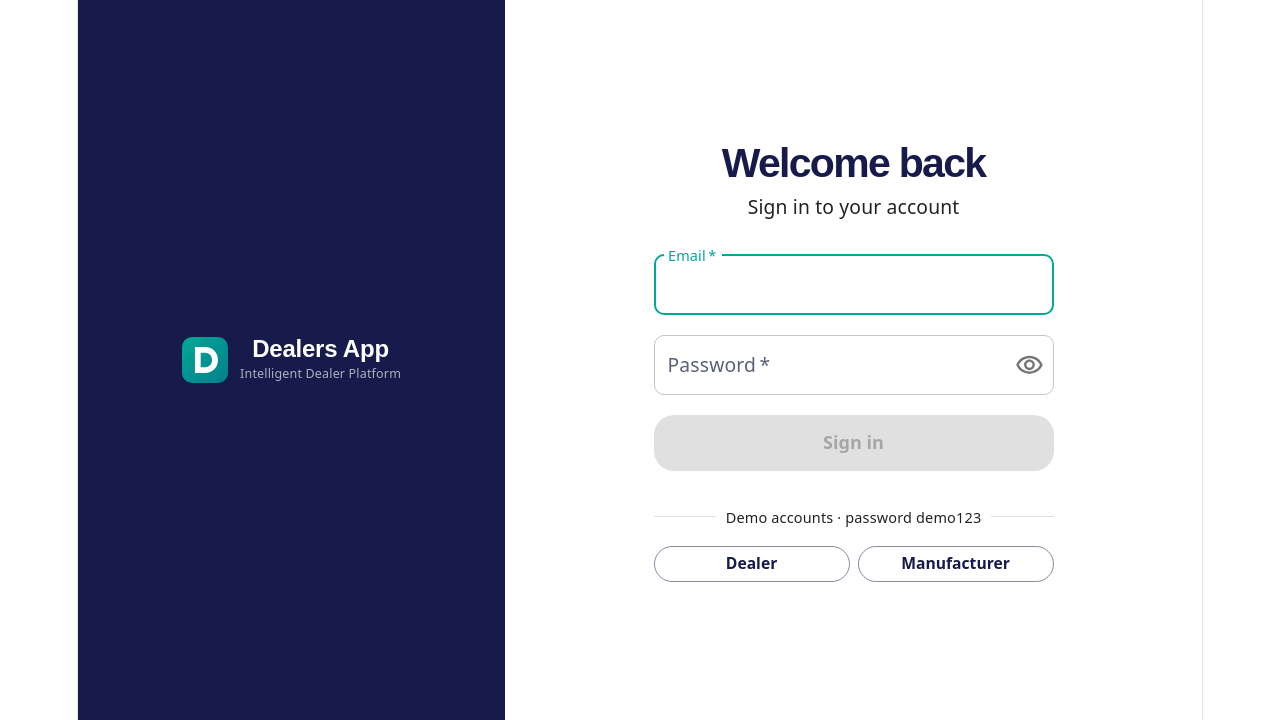
Login › typing again clears the error
The image size is (1280, 720).
Type "dealer@demo.com" into the field labelled "Email *" at [854, 284], box x1=654 y1=254 x2=1054 y2=315
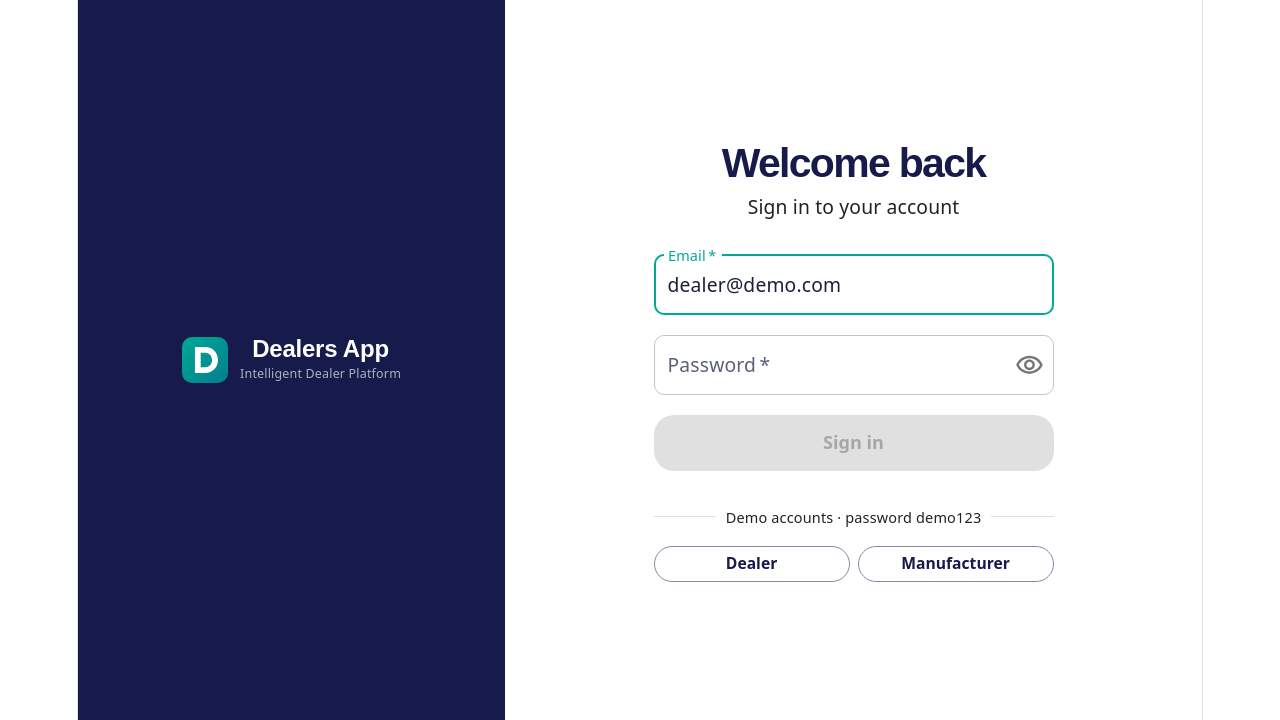
Type "wrong" into the password field labelled "Password *" at [826, 365], box x1=654 y1=335 x2=999 y2=395
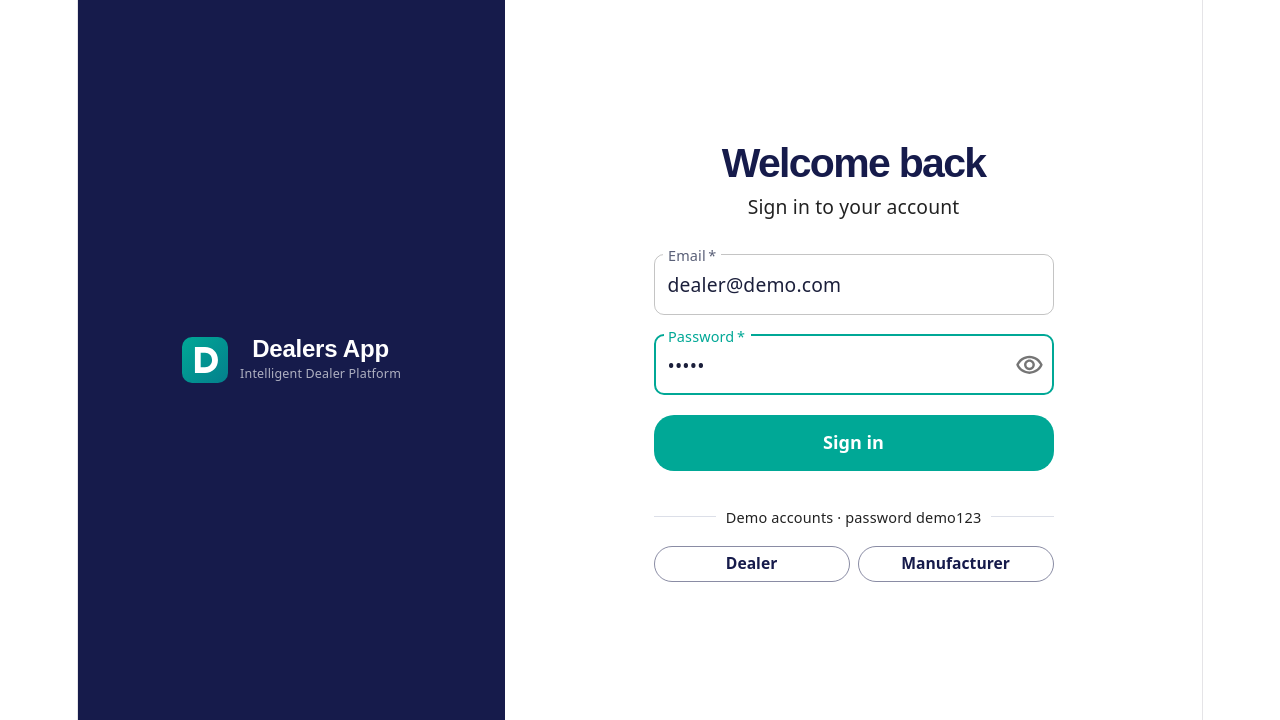
Click the button "Sign in" at [854, 443], box x1=654 y1=416 x2=1054 y2=471
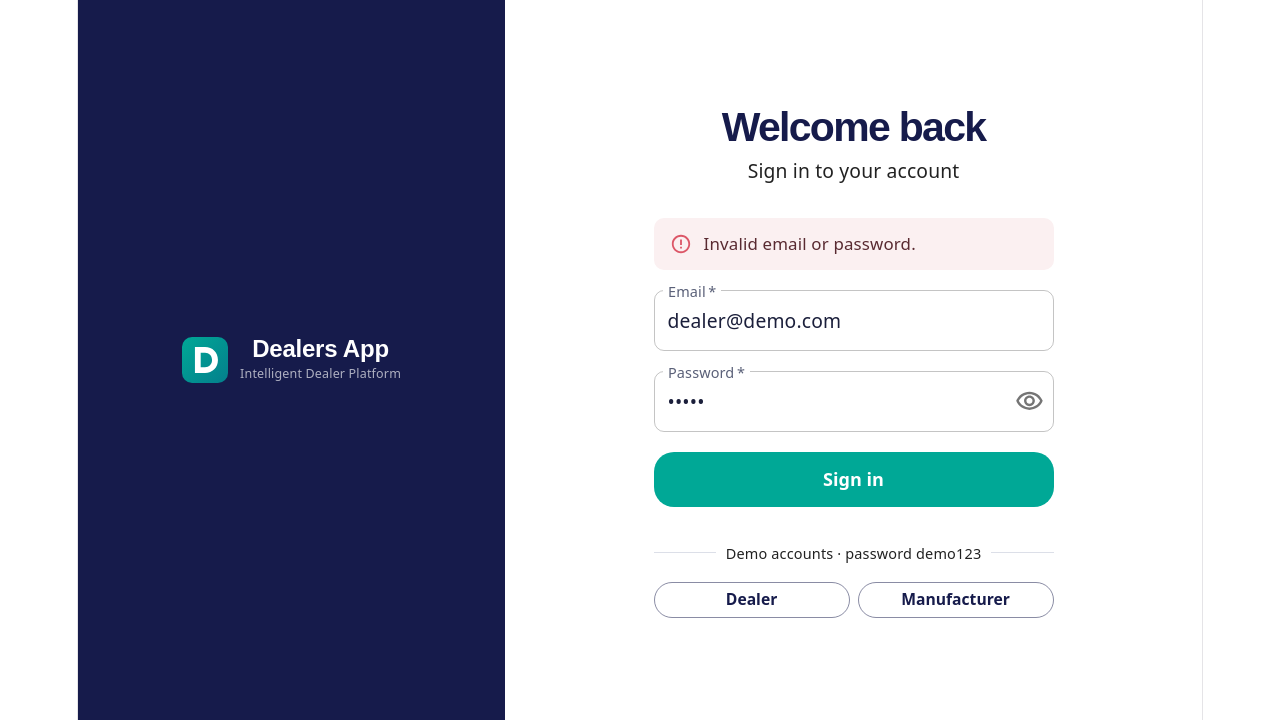
Now the text "Invalid email or password." is shown, box x1=704 y1=232 x2=916 y2=255
Type "x" into the password field labelled "Password *" at [826, 401], box x1=654 y1=371 x2=999 y2=432
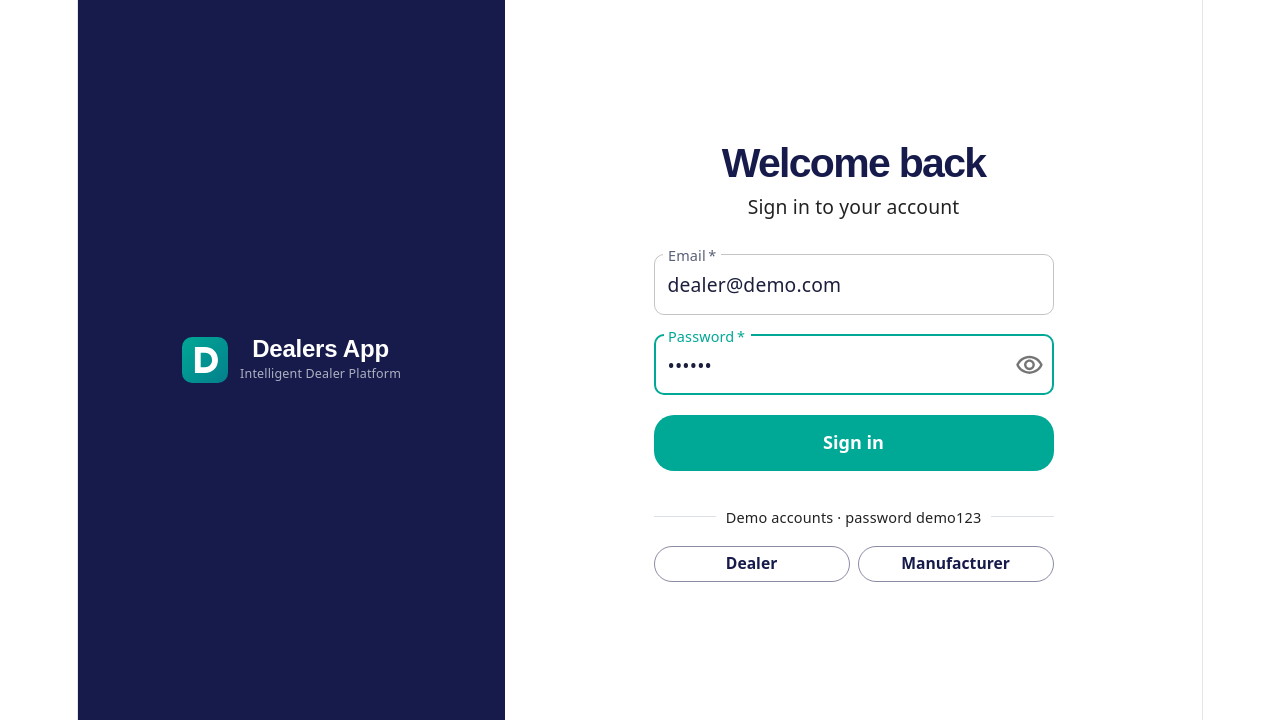
Now the text "Invalid email or password." is gone
